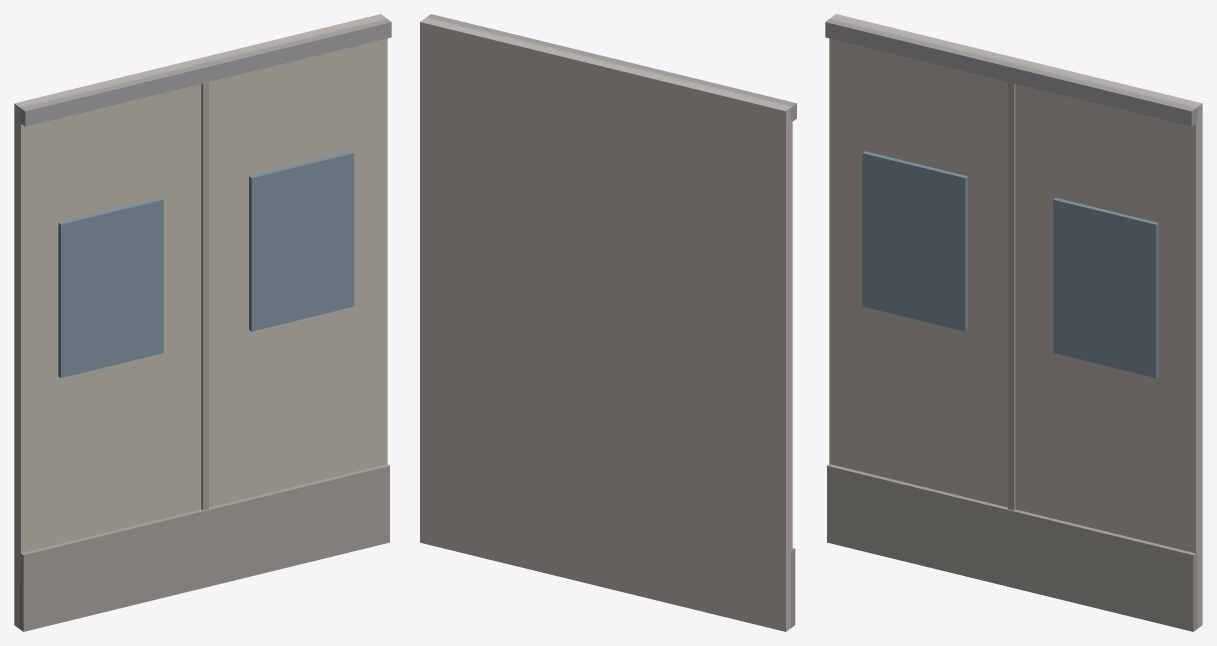
The model's file is tent_wall_window_alt.obj.
3 renders of one model, left to right at view 1: azimuth 30°, elevation 25°; view 2: azimuth 150°, elevation 25°; view 3: azimuth 330°, elevation 25°, orthographic.
Bounding box in the file's own units: 2.5 × 3.4 × 0.13.
